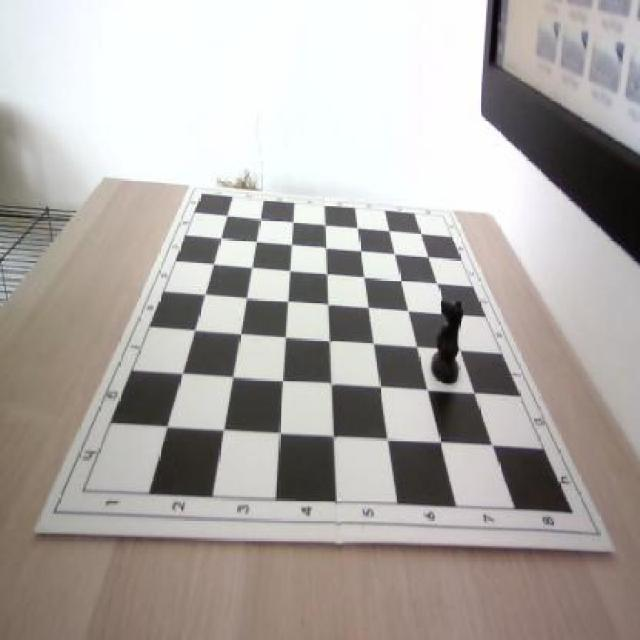black-king: (428, 300, 465, 387)
